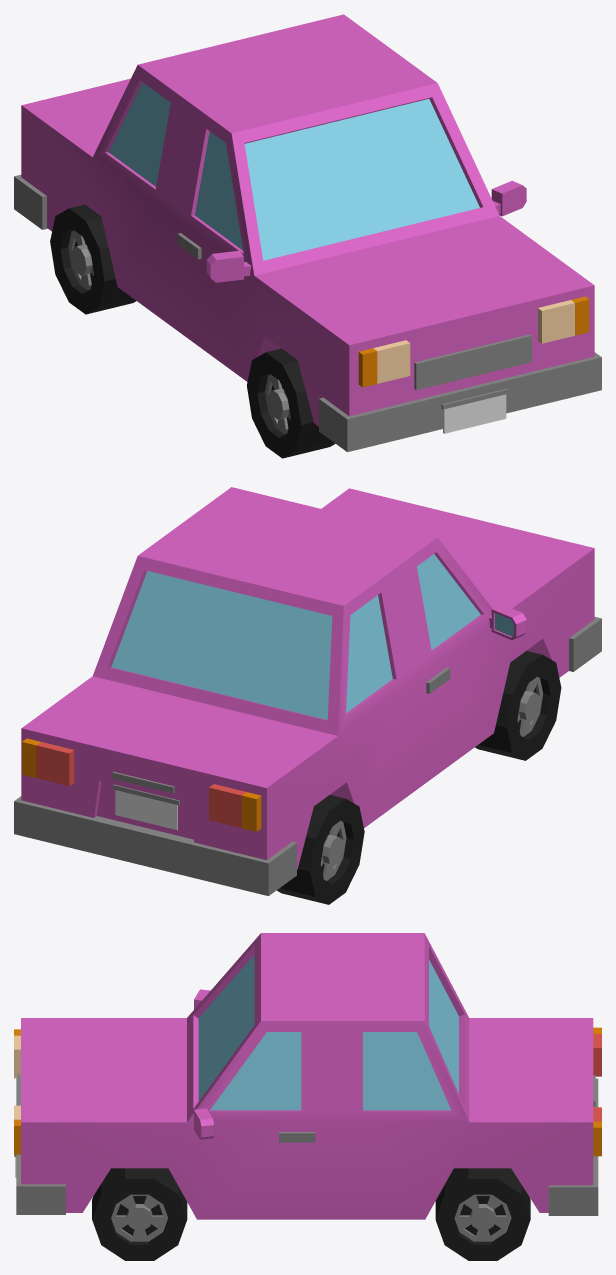
Rendered from Car.fbx.
3 renders of one model, top to bottom at view 1: azimuth 30°, elevation 25°; view 2: azimuth 150°, elevation 25°; view 3: azimuth 270°, elevation 25°, orthographic. The views are drawn at different scales.
Parts seen in each view (by area): view 1: Auto, Llantas Frontal, Llantas Traseras; view 2: Auto, Llantas Traseras, Llantas Frontal; view 3: Auto, Llantas Frontal, Llantas Traseras.
Boxes of the visible parts, <box> form: Auto: <box>14,14,601,452</box>; Llantas Frontal: <box>247,348,335,458</box>; Llantas Traseras: <box>50,204,135,314</box>; Auto: <box>14,487,601,895</box>; Llantas Traseras: <box>277,795,364,904</box>; Llantas Frontal: <box>475,650,561,760</box>; Auto: <box>14,933,601,1219</box>; Llantas Frontal: <box>92,1168,187,1260</box>; Llantas Traseras: <box>435,1168,530,1260</box>.
Size of what is drawn, in the model's own units: 137 by 108 by 253.
